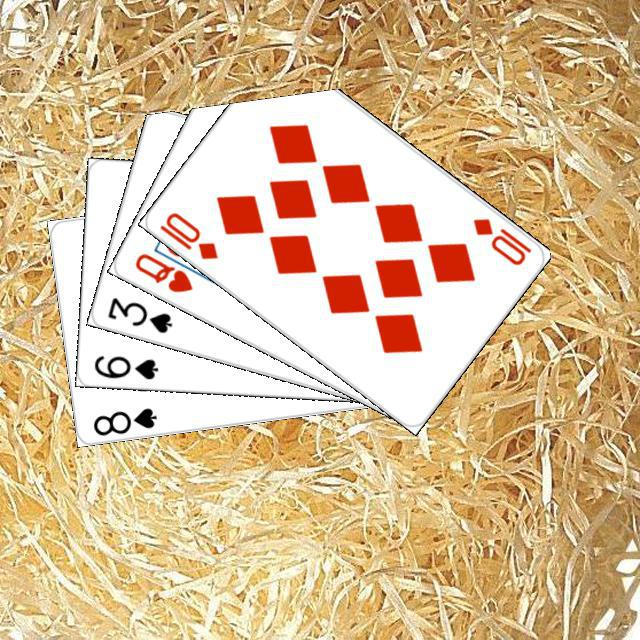10d: (154, 207, 220, 262), (467, 213, 534, 267)
3s: (102, 292, 174, 335)
6s: (89, 351, 160, 381)
8s: (88, 403, 158, 437)
Qh: (129, 248, 195, 295)
